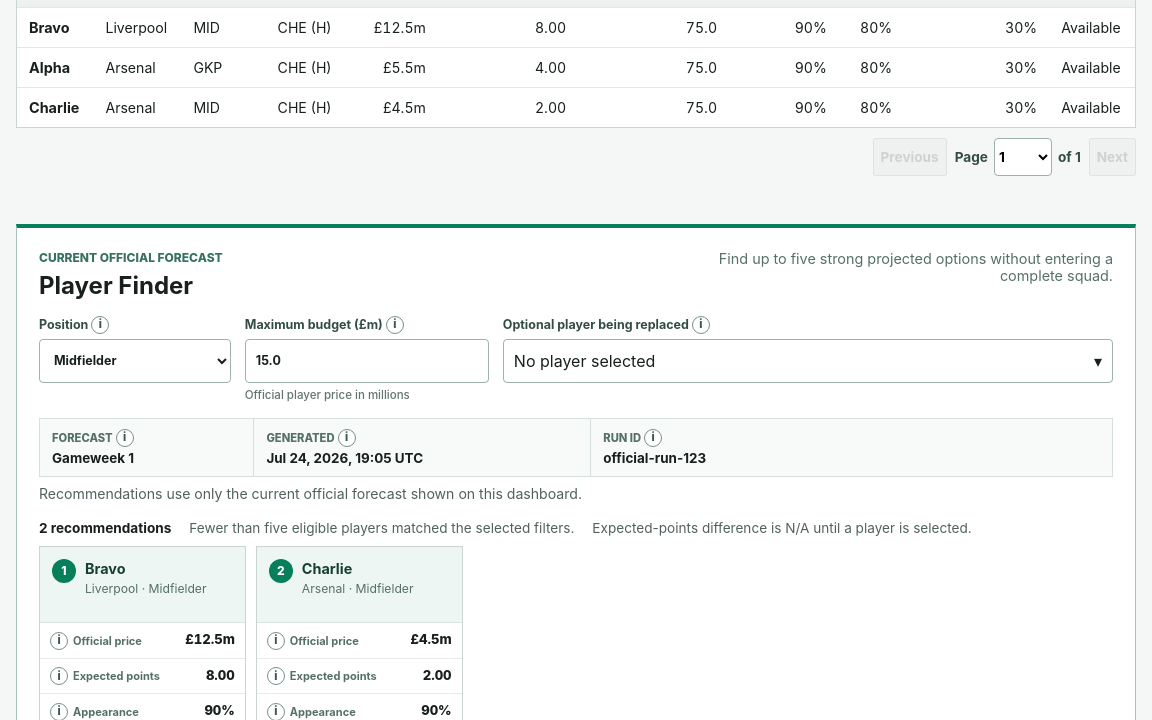
Test: dashboard interactions › validates budgets inline and shows no-match and fewer-than-five states
(page scrolled)
Clear the field labelled "Maximum budget (£m)" at point(367, 361), box left=245, top=339, right=489, bottom=383
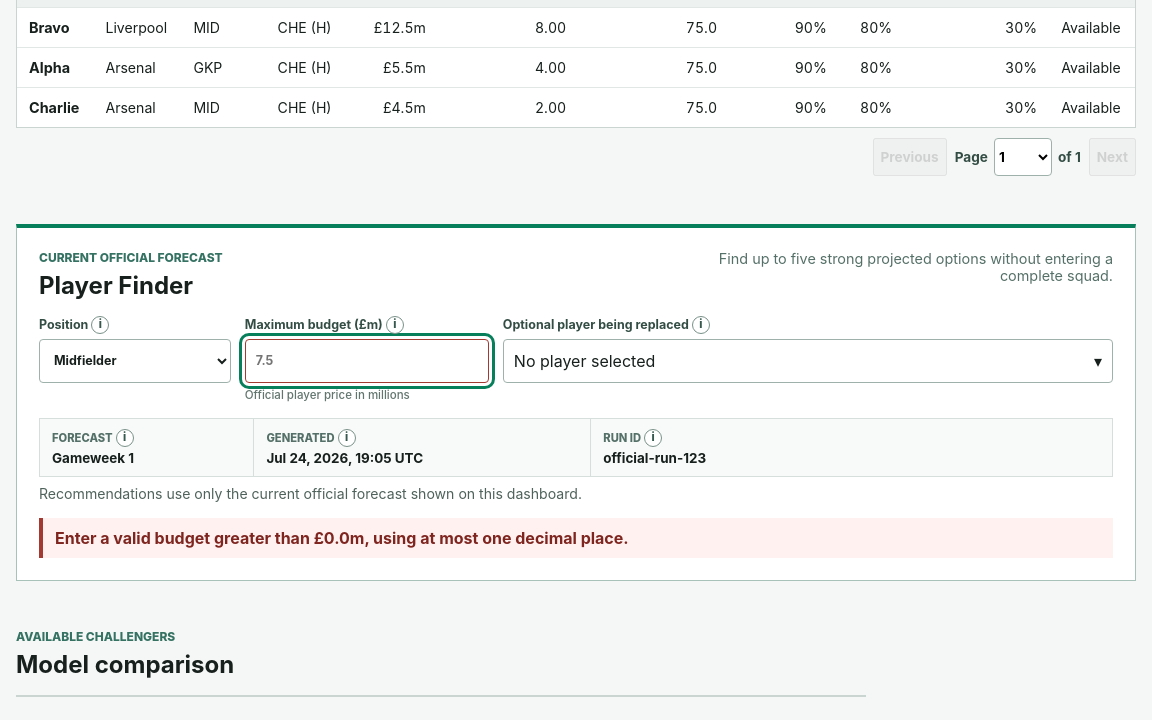
Now the message shows "valid budget", box left=55, top=528, right=629, bottom=548
Type "4.0" into the field labelled "Maximum budget (£m)" at point(367, 361), box left=245, top=339, right=489, bottom=383
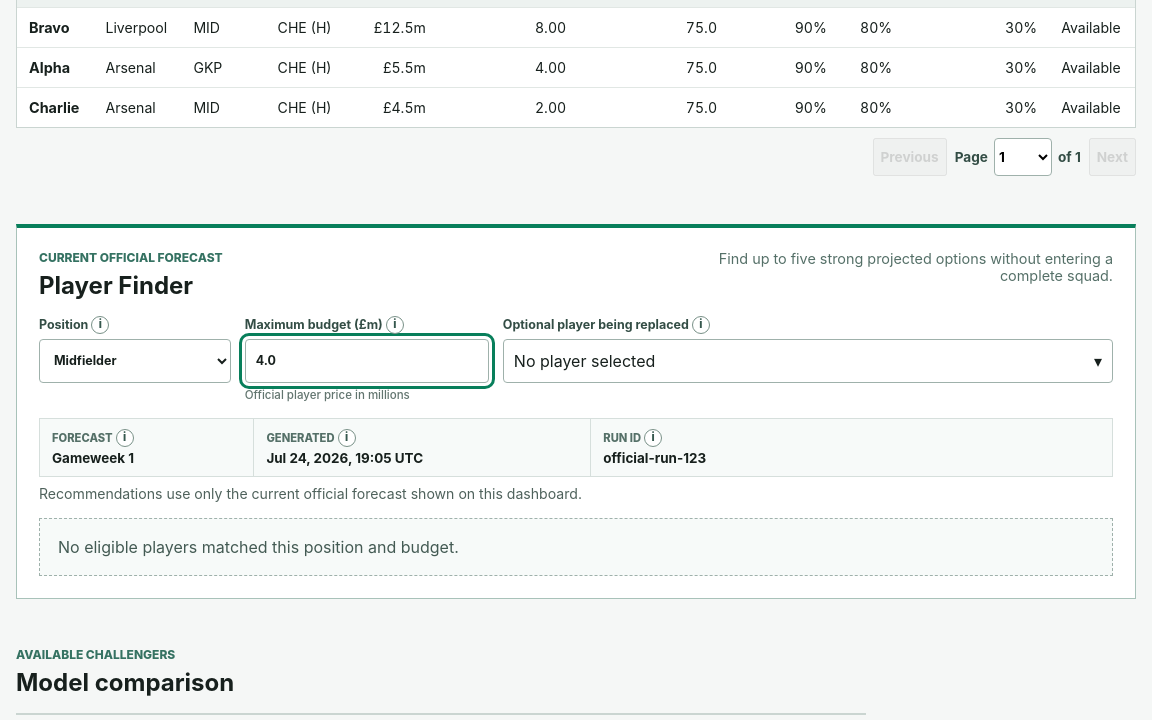
Now the message shows "No eligible players", box left=58, top=537, right=459, bottom=557
Replace the text in the field labelled "Maximum budget (£m)" with "5.0" at point(367, 361), box left=245, top=339, right=489, bottom=383
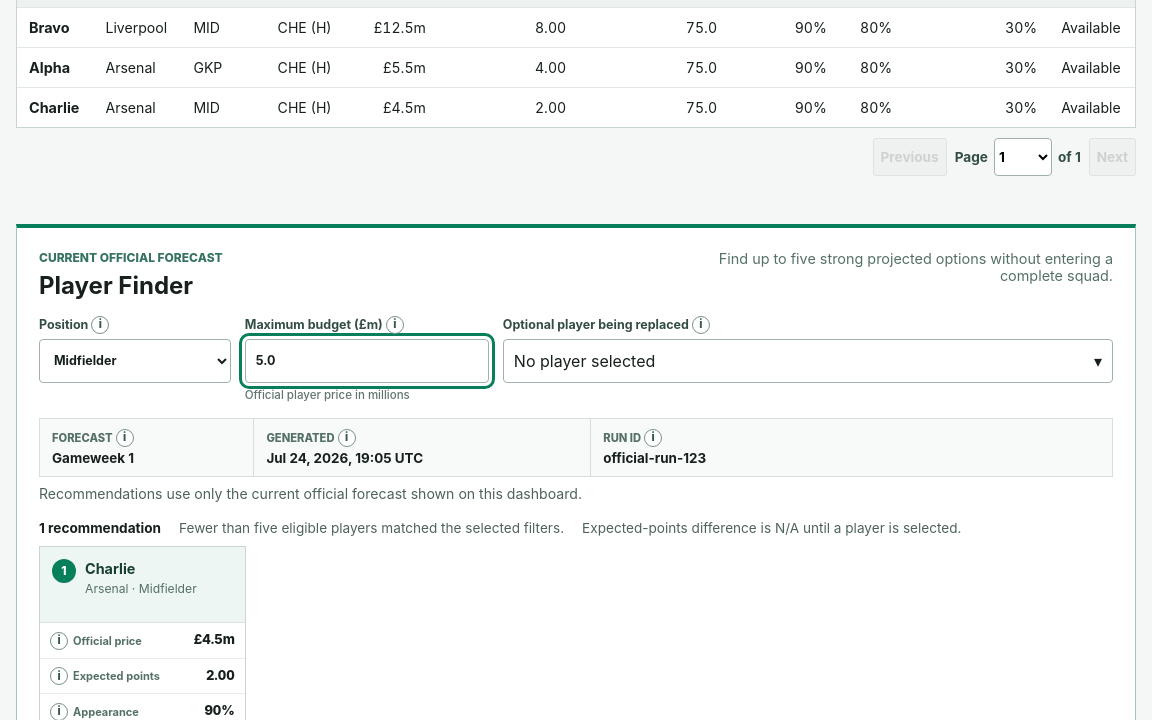
Now the text "Fewer than five eligible players" is shown, box left=179, top=520, right=564, bottom=536
